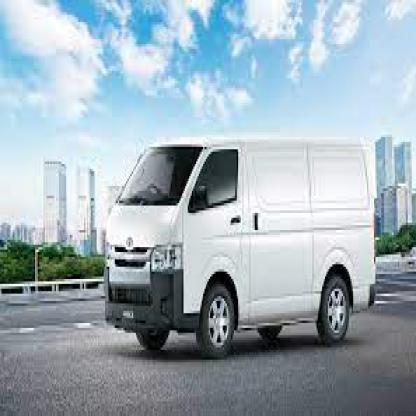van: (101, 125, 375, 360)
